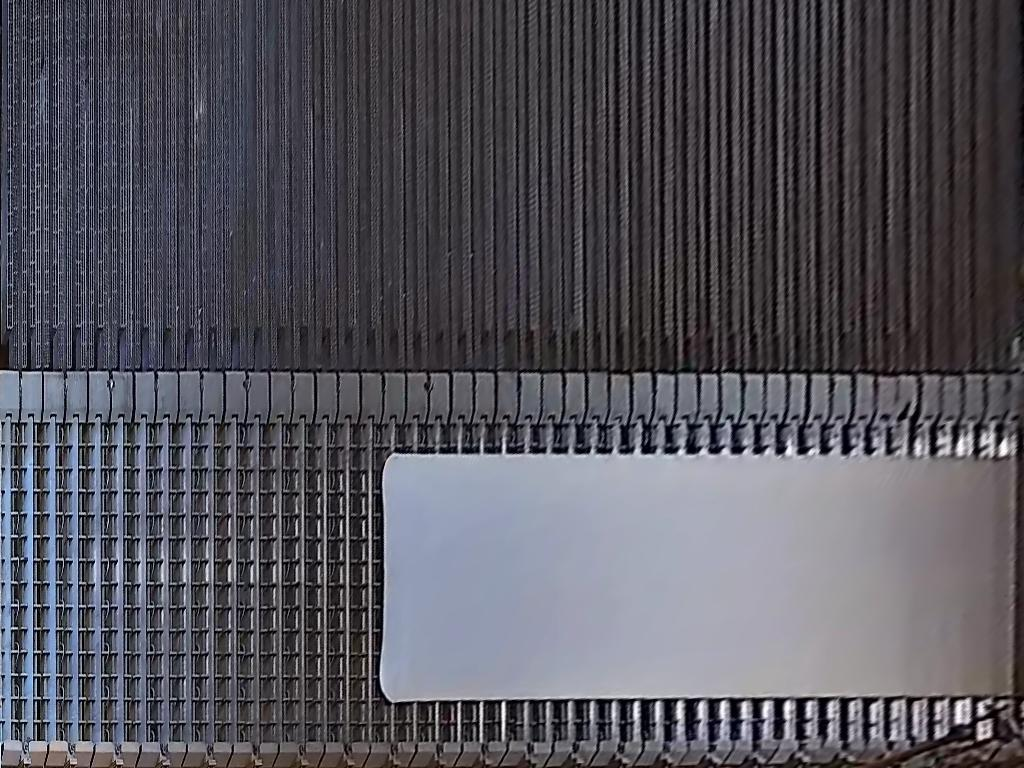steel: (379, 453, 1024, 701)
